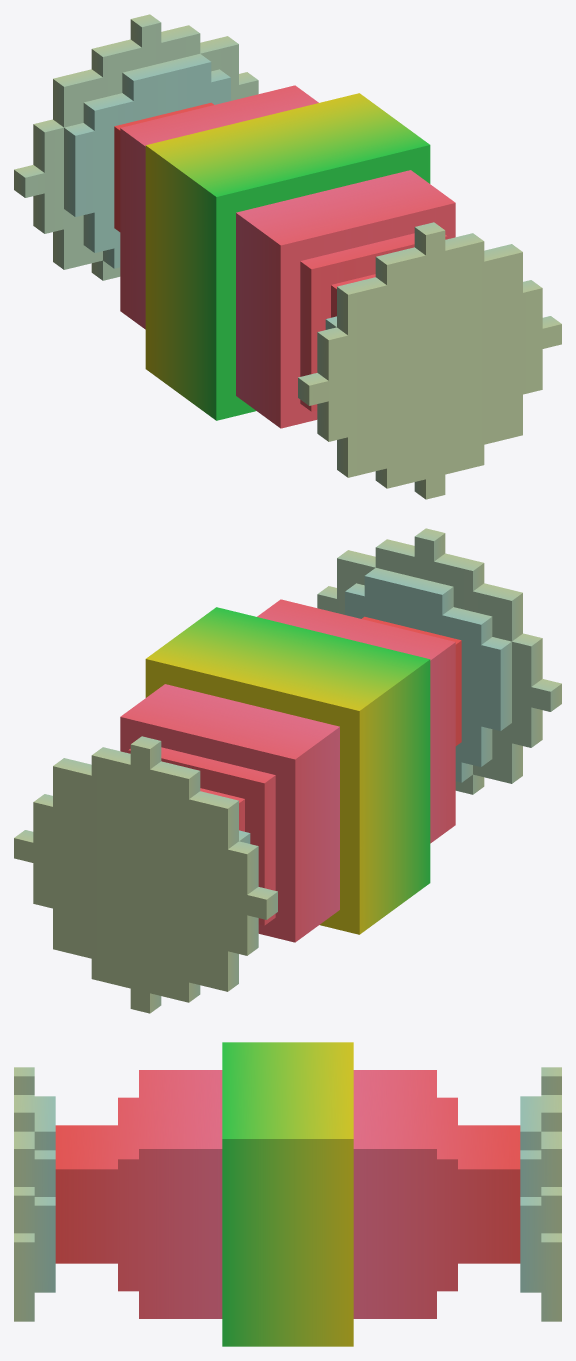
File: Bonbon.fbx
The picture shows the model from 3 angles, top to bottom: view 1: azimuth 30°, elevation 25°; view 2: azimuth 150°, elevation 25°; view 3: azimuth 270°, elevation 25°; orthographic projection. The views are drawn at different scales.
Parts seen in each view (by area): view 1: Bonbon; view 2: Bonbon; view 3: Bonbon.
Part boxes in pixels (left/top/right/bottom): Bonbon: left=14, top=14, right=561, bottom=499; Bonbon: left=14, top=528, right=561, bottom=1013; Bonbon: left=14, top=1042, right=561, bottom=1346.
Size of the model in its own units: 47.79 by 47.79 by 96.71.
